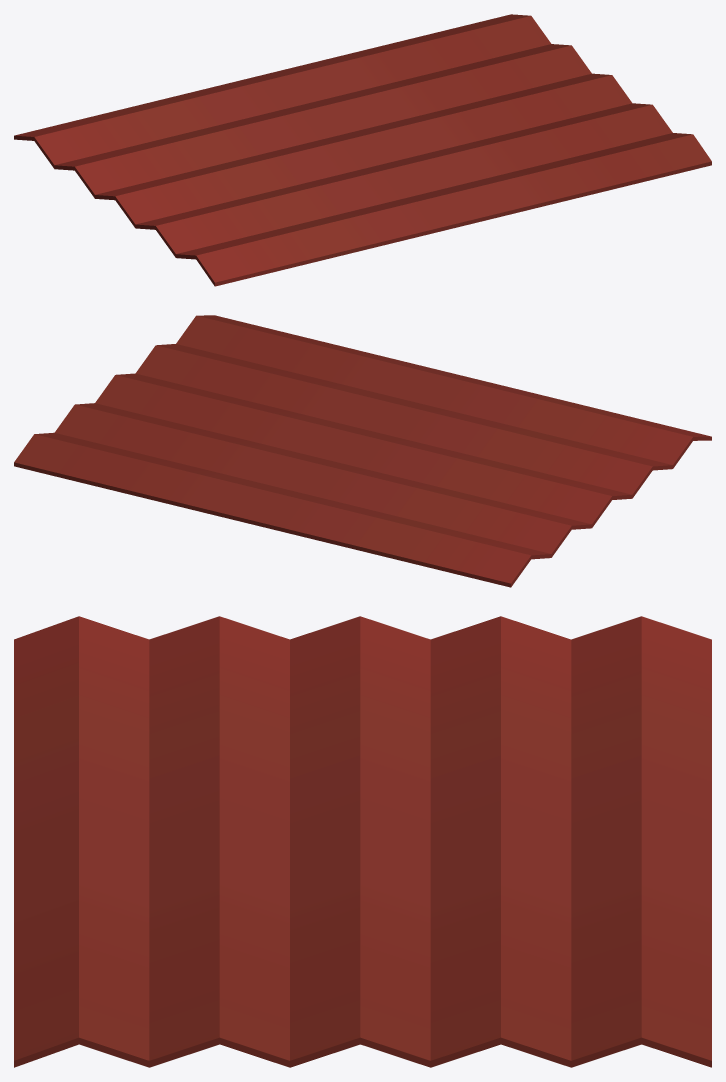
File: SheetMetal_B_1.fbx
3 views of the same model, one above another, from view 1: azimuth 30°, elevation 25°; view 2: azimuth 150°, elevation 25°; view 3: azimuth 270°, elevation 25° (orthographic). The views are drawn at different scales.
Parts seen in each view (by area): view 1: SheetMetal_B_1; view 2: SheetMetal_B_1; view 3: SheetMetal_B_1.
Part boxes in pixels (<box>): SheetMetal_B_1: <box>14,14,711,286</box>; SheetMetal_B_1: <box>14,315,711,587</box>; SheetMetal_B_1: <box>14,616,711,1067</box>.
Size of the model in its own units: 137 by 4.58 by 96.05.
